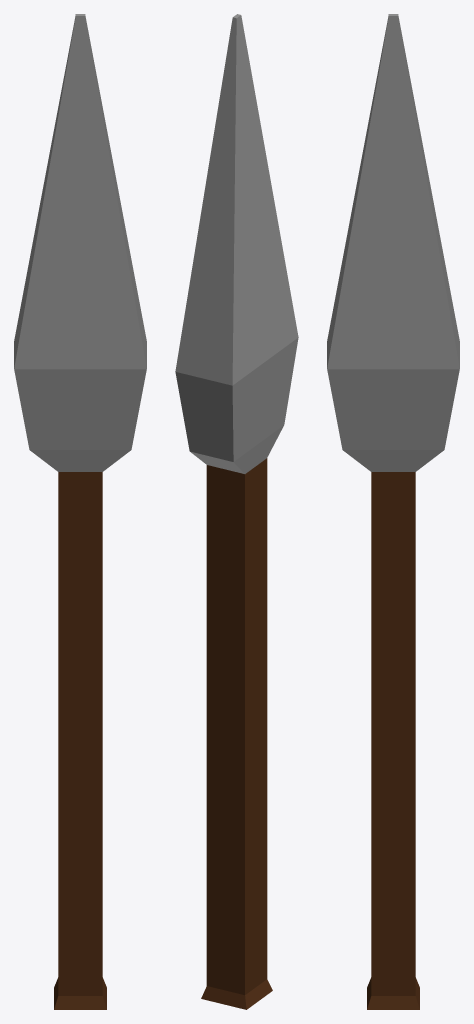
The model's file is Spear.fbx.
3 renders of one model, left to right at view 1: azimuth 90°, elevation 25°; view 2: azimuth 150°, elevation 25°; view 3: azimuth 270°, elevation 25°, orthographic.
Parts seen in each view (by area): view 1: Spear; view 2: Spear; view 3: Spear.
Boxes of the visible parts, box(x1,y1,x2,y2) form: Spear: box(14, 14, 146, 1009); Spear: box(175, 14, 298, 1009); Spear: box(327, 14, 459, 1009).
Bounding box in the file's own units: 7155 × 116998 × 14309.
